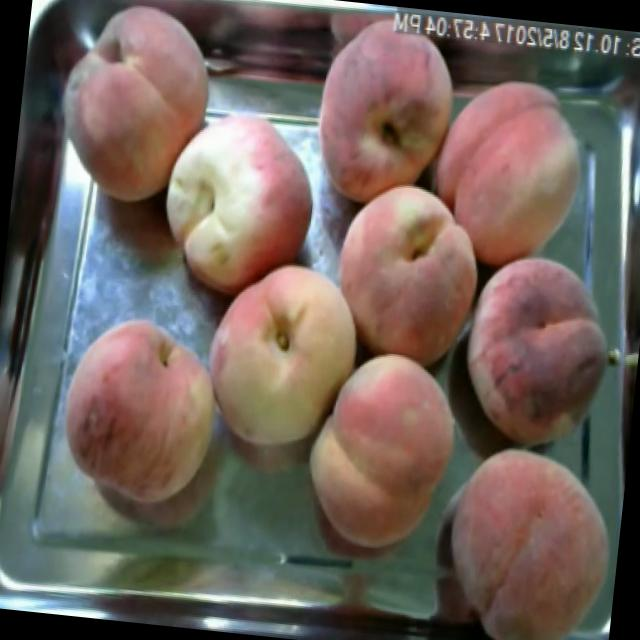Fruit: (419, 427, 628, 640), (445, 236, 633, 472), (41, 0, 238, 222), (188, 241, 380, 466), (136, 97, 334, 315), (42, 302, 238, 522), (287, 335, 470, 565), (408, 62, 596, 280), (294, 6, 470, 228), (314, 166, 492, 380)
